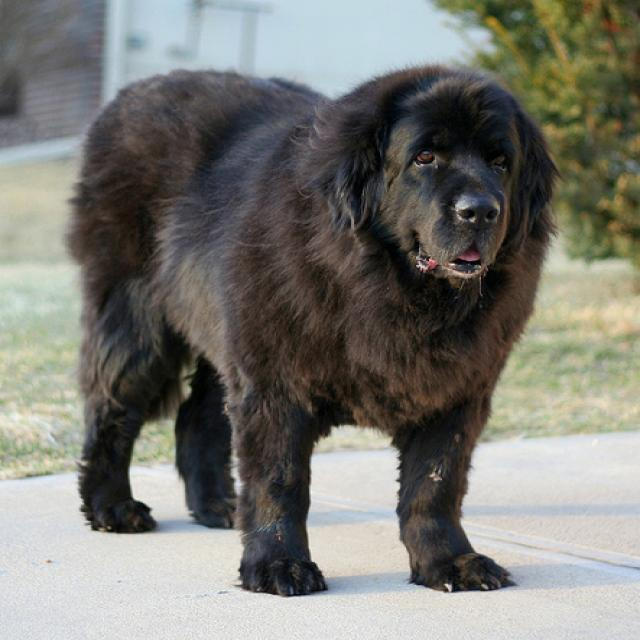dog-newfoundland: (52, 54, 566, 605)
